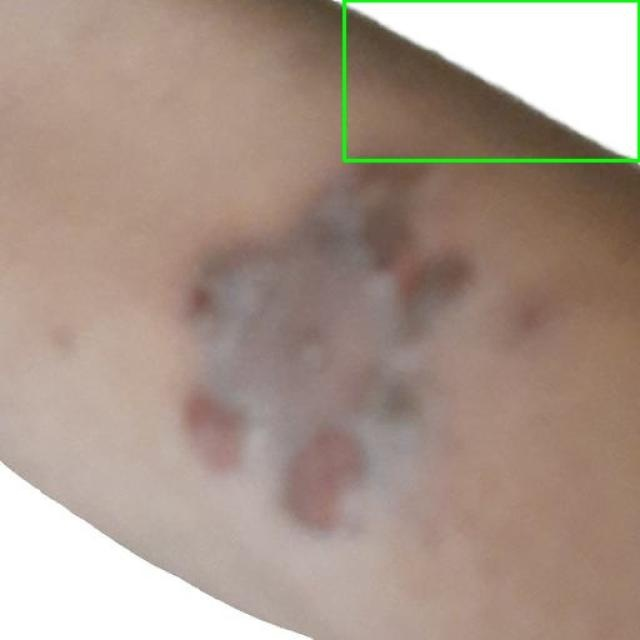Eczema: (344, 0, 639, 160)
